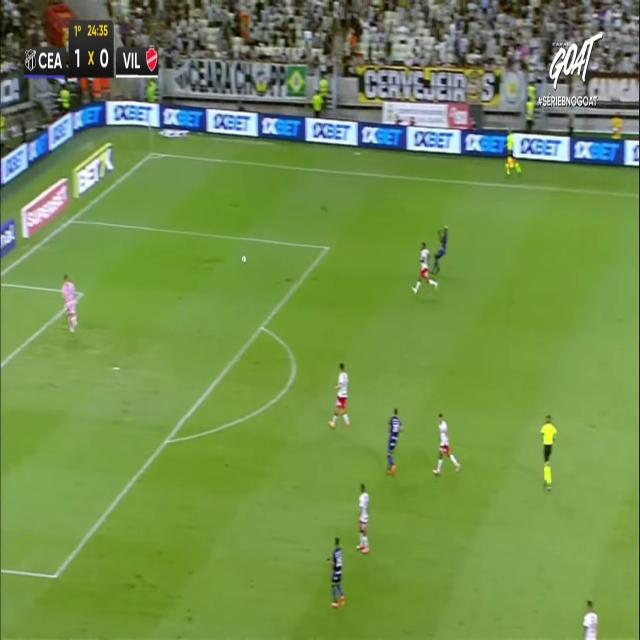ball: (241, 255, 246, 262)
goalkeeper: (61, 273, 80, 333)
player: (432, 412, 460, 473), (411, 240, 438, 293), (329, 362, 350, 429), (327, 534, 345, 607), (386, 407, 403, 474), (356, 482, 370, 553), (432, 225, 449, 281), (582, 600, 598, 639)
referee: (540, 414, 556, 490), (504, 128, 522, 177)
